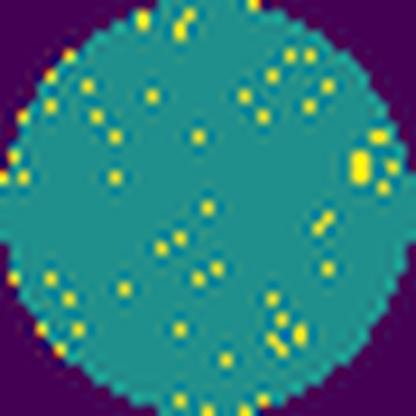Edge-Loc: (347, 148, 375, 190)
